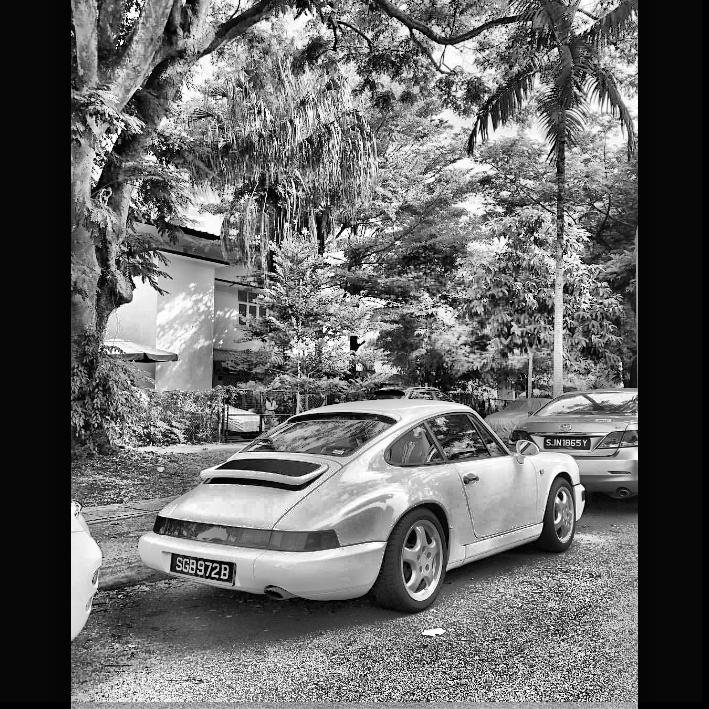License-Plates: (170, 554, 233, 583), (544, 437, 589, 448)
